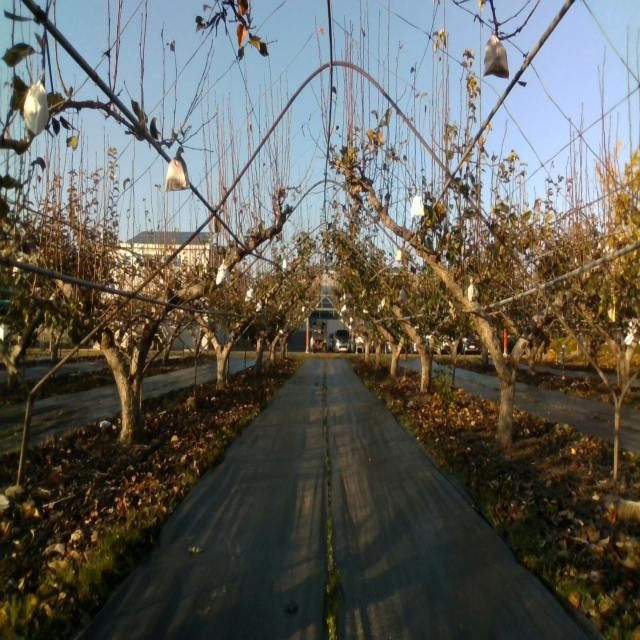pearbags: (23, 68, 49, 142), (483, 36, 508, 80), (164, 149, 188, 192), (216, 258, 231, 285), (410, 190, 424, 218), (468, 277, 480, 302)
